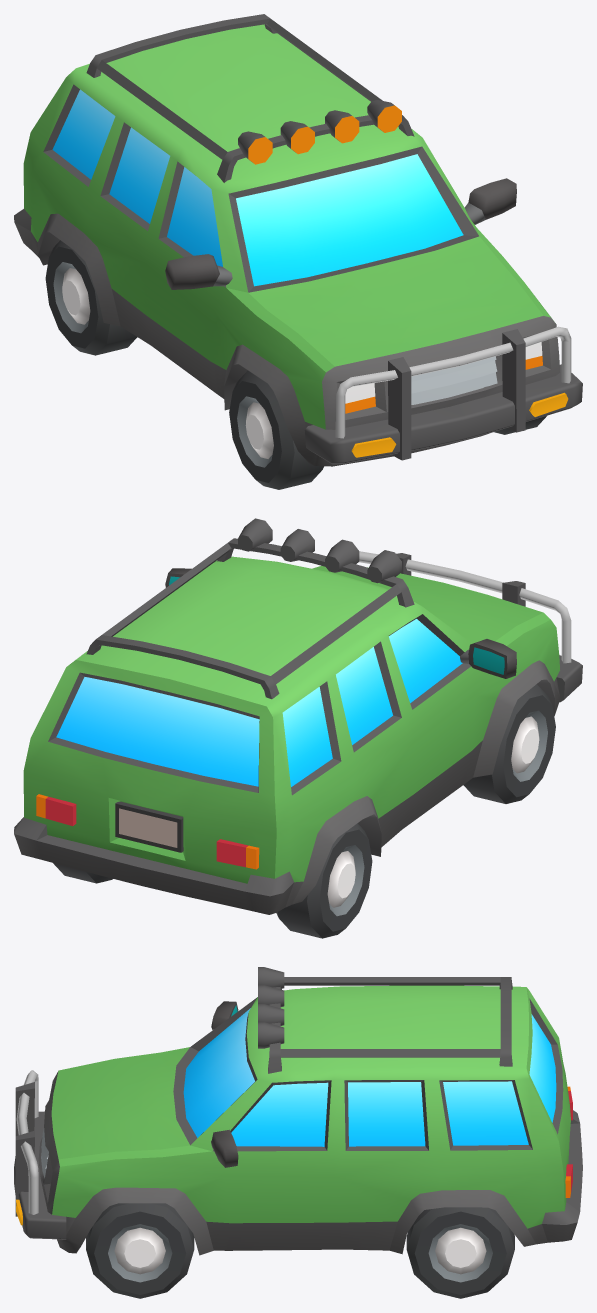
The model's file is Car_20.glb.
The picture shows the model from 3 angles, top to bottom: view 1: azimuth 30°, elevation 25°; view 2: azimuth 150°, elevation 25°; view 3: azimuth 270°, elevation 25°; orthographic projection. The views are drawn at different scales.
Parts seen in each view (by area): view 1: Car_20, Wheel_093, Wheel_094; view 2: Car_20, Wheel_094, Wheel_093; view 3: Car_20, Wheel_095, Wheel_096.
Part boxes in pixels (x1,y1,x2,y2): Car_20: [14, 14, 582, 466]; Wheel_093: [229, 370, 323, 489]; Wheel_094: [45, 240, 137, 355]; Car_20: [14, 518, 582, 914]; Wheel_094: [276, 823, 372, 938]; Wheel_093: [463, 684, 555, 803]; Car_20: [14, 967, 582, 1255]; Wheel_095: [86, 1203, 194, 1298]; Wheel_096: [406, 1207, 514, 1298].
Size of the model in its own units: 2.74 by 2.14 by 4.46.
Materials: 2 (2 with a texture image).
